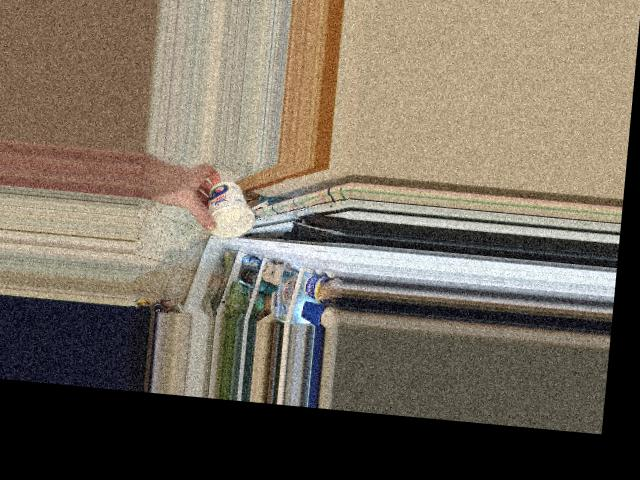cotage: (206, 185, 260, 233)
